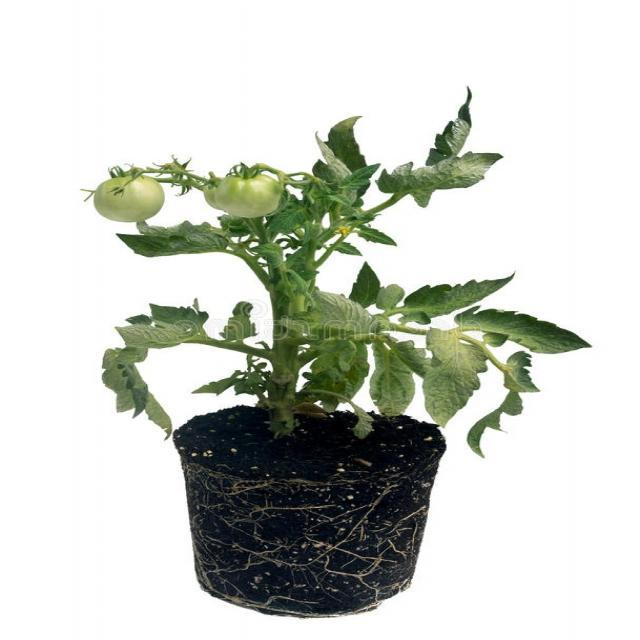tomato: (89, 91, 590, 453)
